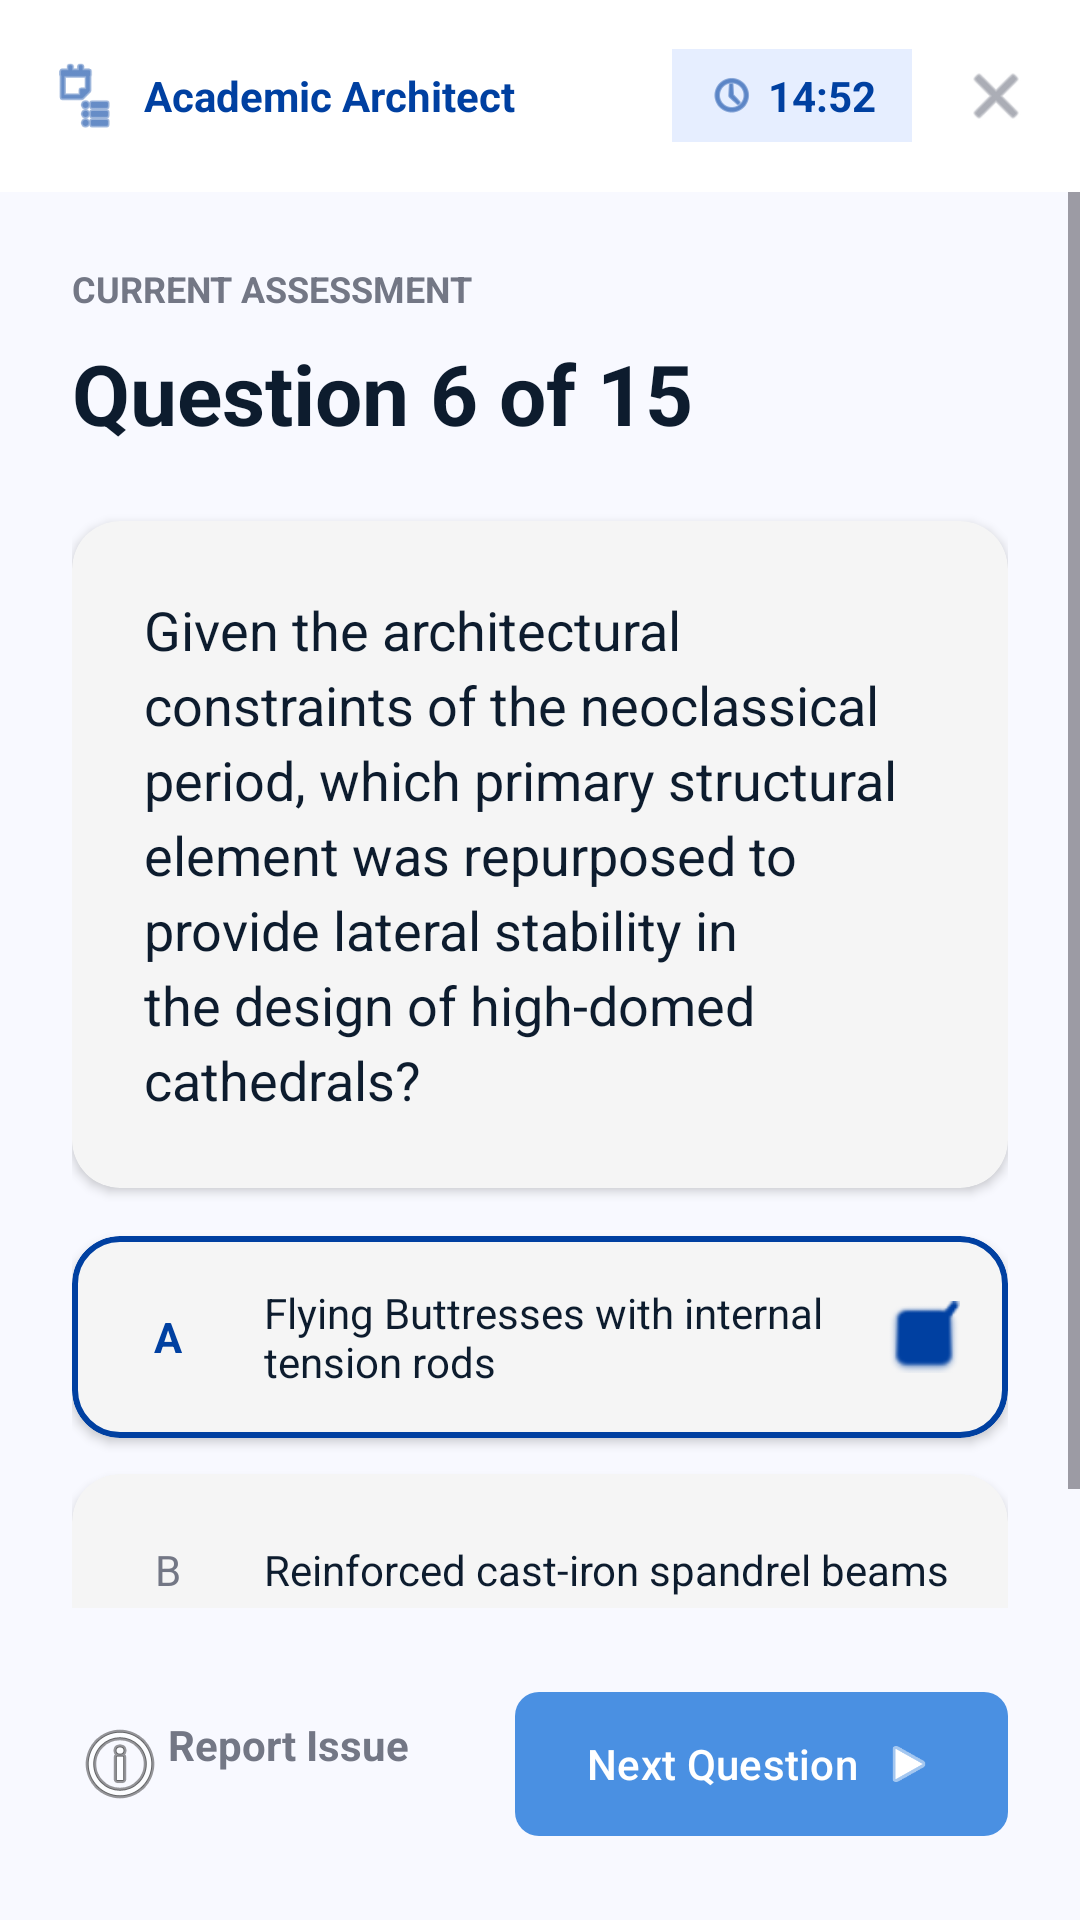

Icons on this 1080*1920 Android screen, each with its box as (x1, y1, x2, y2):
agenda: (59, 64, 110, 128)
close clear cancel: (974, 74, 1018, 118)
recent history: (714, 78, 749, 113)
